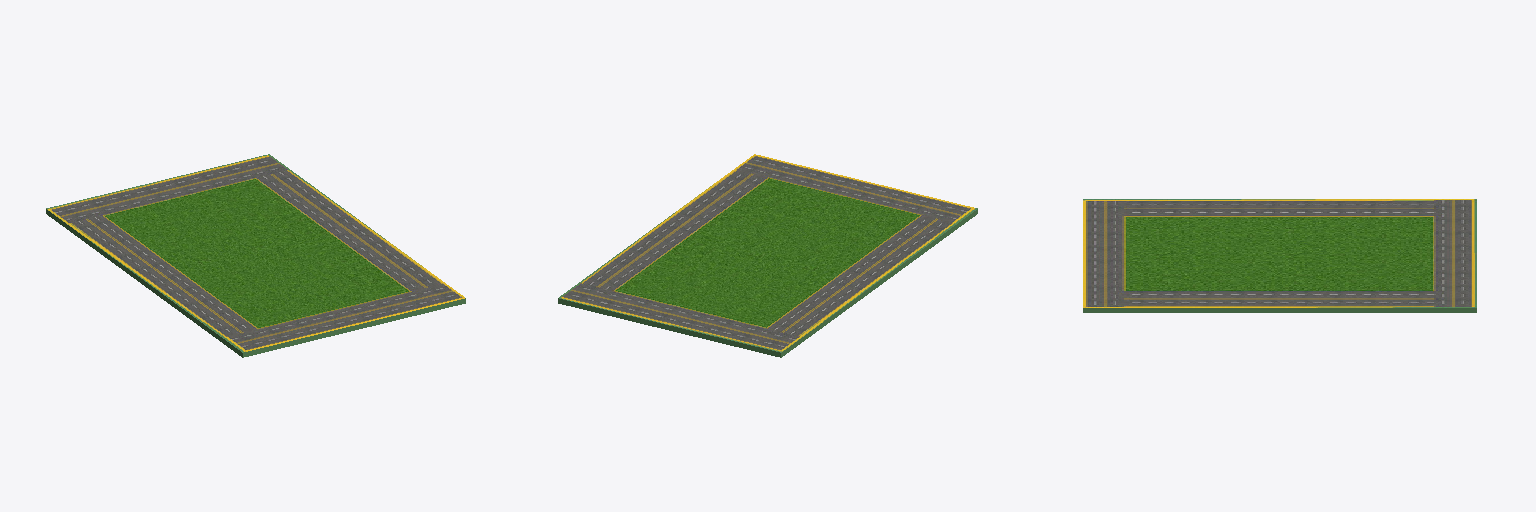
3 renders of one model, left to right at view 1: azimuth 30°, elevation 25°; view 2: azimuth 150°, elevation 25°; view 3: azimuth 270°, elevation 25°, orthographic.
Visible parts, largest first — view 1: pCube1; view 2: pCube1; view 3: pCube1.
Boxes of the visible parts, box(x1,y1,x2,y2) form: pCube1: box(46, 154, 465, 357); pCube1: box(558, 154, 977, 357); pCube1: box(1083, 199, 1476, 312).
Bounding box in the file's own units: 45.65 × 1 × 69.66.
Materials: 1 (1 with a texture image).